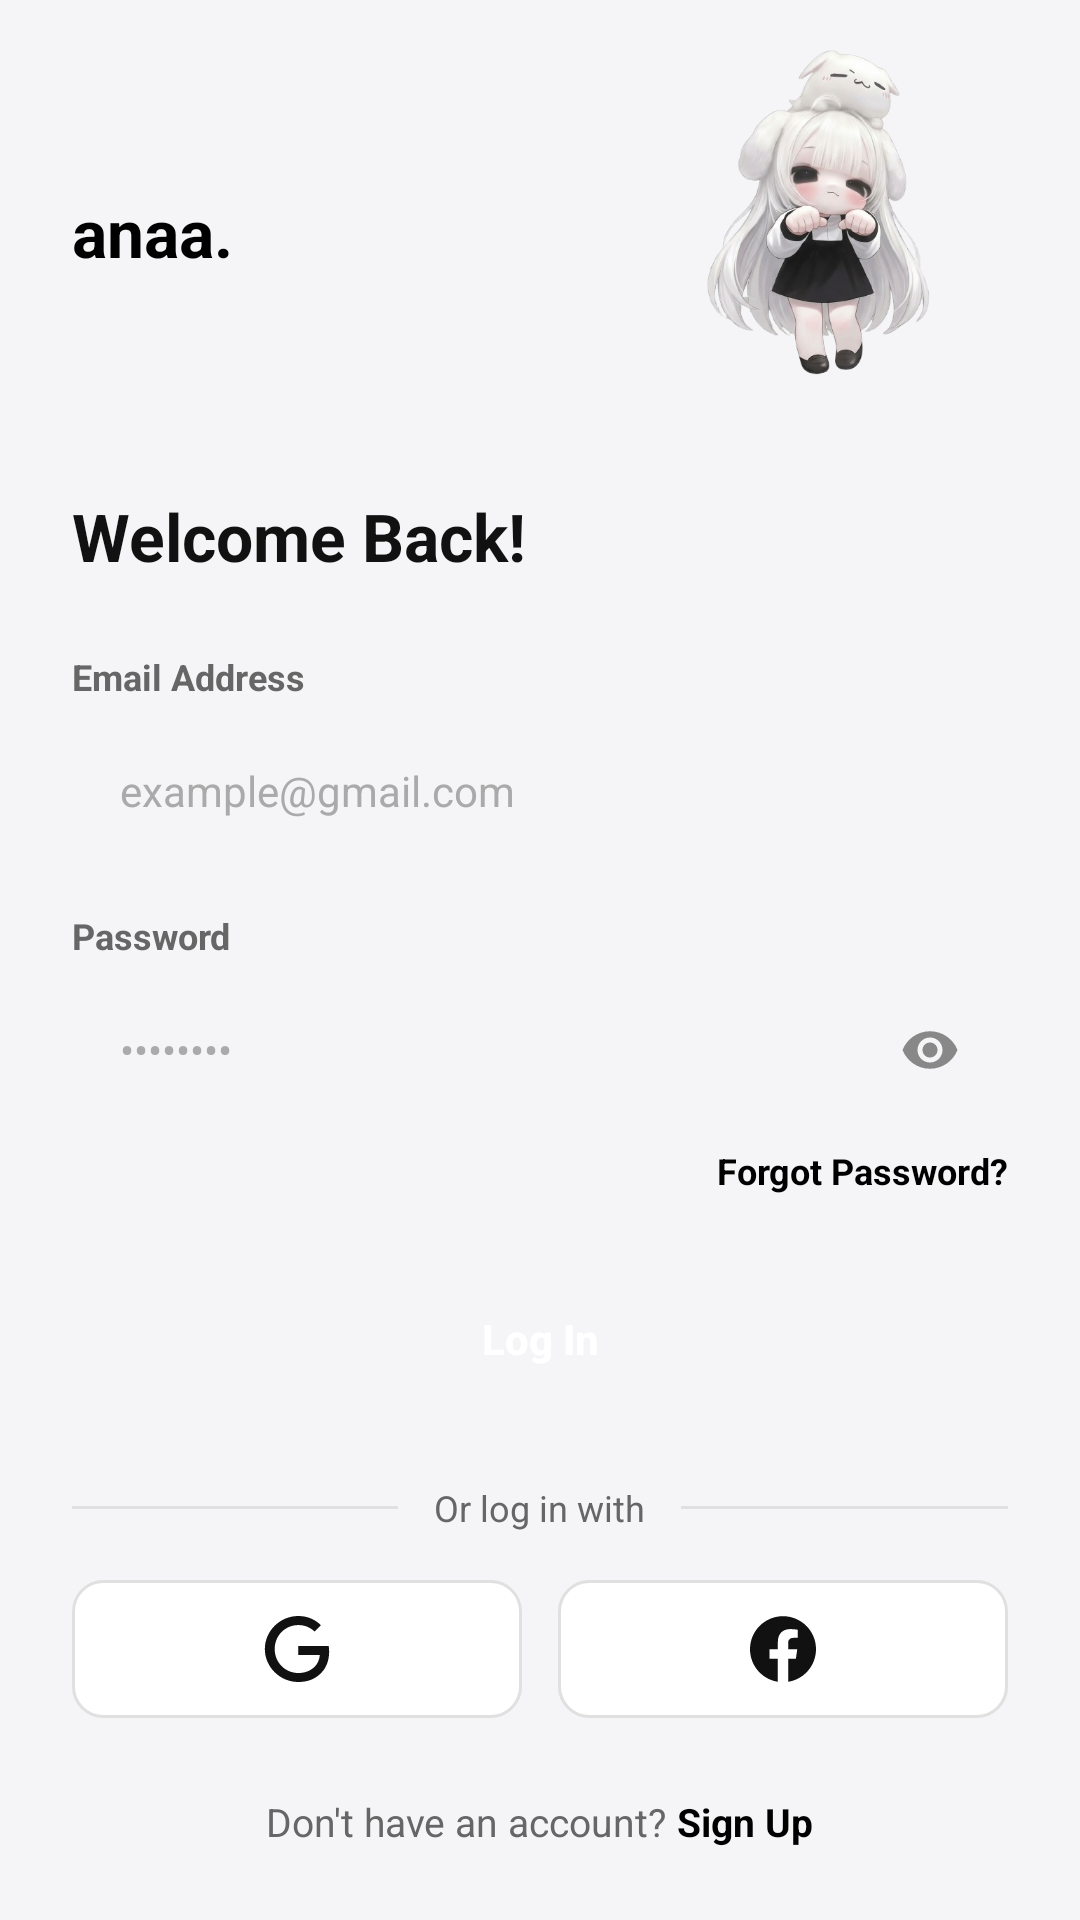

Icon click points for this 1080px×1920px phone screenshot, format (x=x, y=y):
Character: (x=818, y=212)
Password Toggle: (x=930, y=1050)
